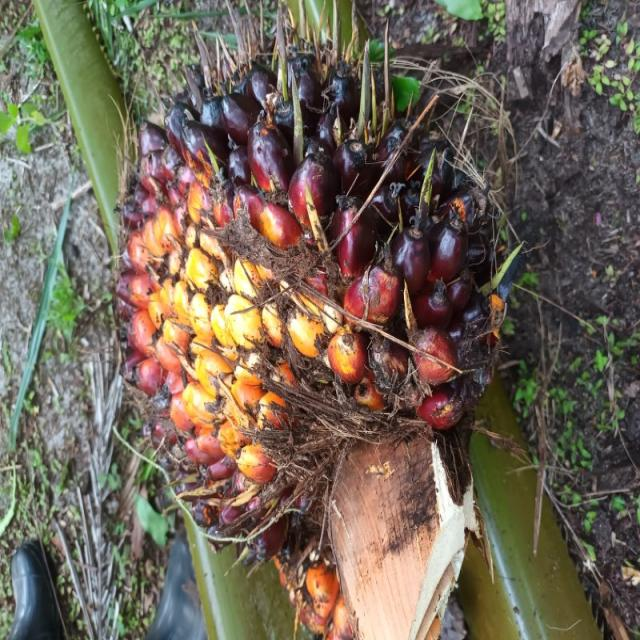fraksi 1: (56, 68, 435, 640)
